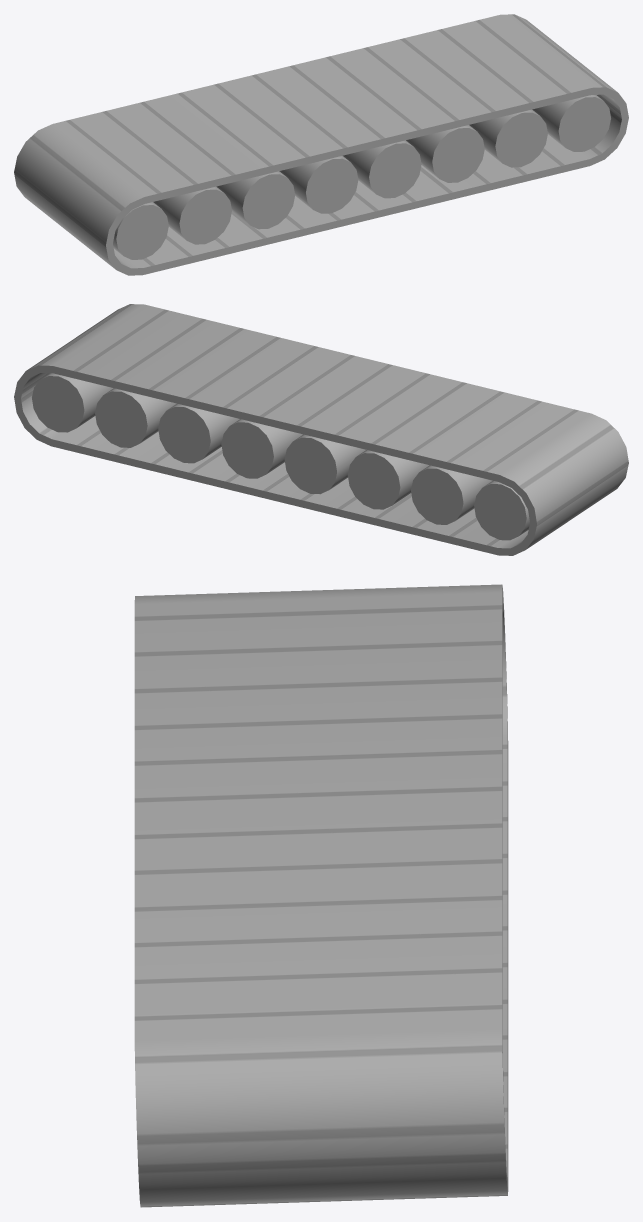
The model's file is Moved_Platform.fbx.
3 views of the same model, one above another, from view 1: azimuth 30°, elevation 25°; view 2: azimuth 150°, elevation 25°; view 3: azimuth 270°, elevation 25° (orthographic). The views are drawn at different scales.
Visible parts, largest first — view 1: Walking_Platform; view 2: Walking_Platform; view 3: Walking_Platform.
Boxes of the visible parts, x1,y1,x2,y2 form: Walking_Platform: [14, 14, 628, 275]; Walking_Platform: [14, 304, 628, 555]; Walking_Platform: [134, 584, 508, 1207].
Size of the model in its own units: 497 by 77.23 by 154.
